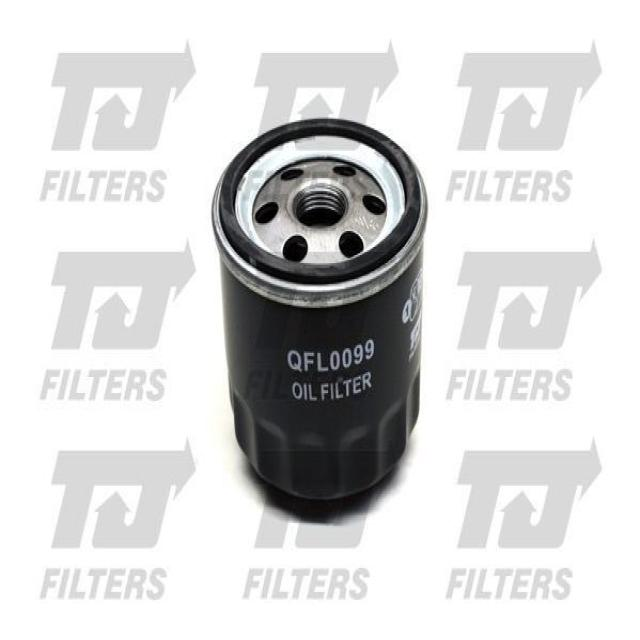oil_filter: (209, 115, 439, 508)
